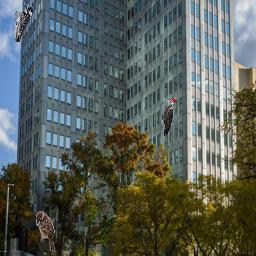Sparrow: (36, 211, 55, 251)
Woodpecker: (10, 2, 33, 42), (162, 98, 176, 138)
